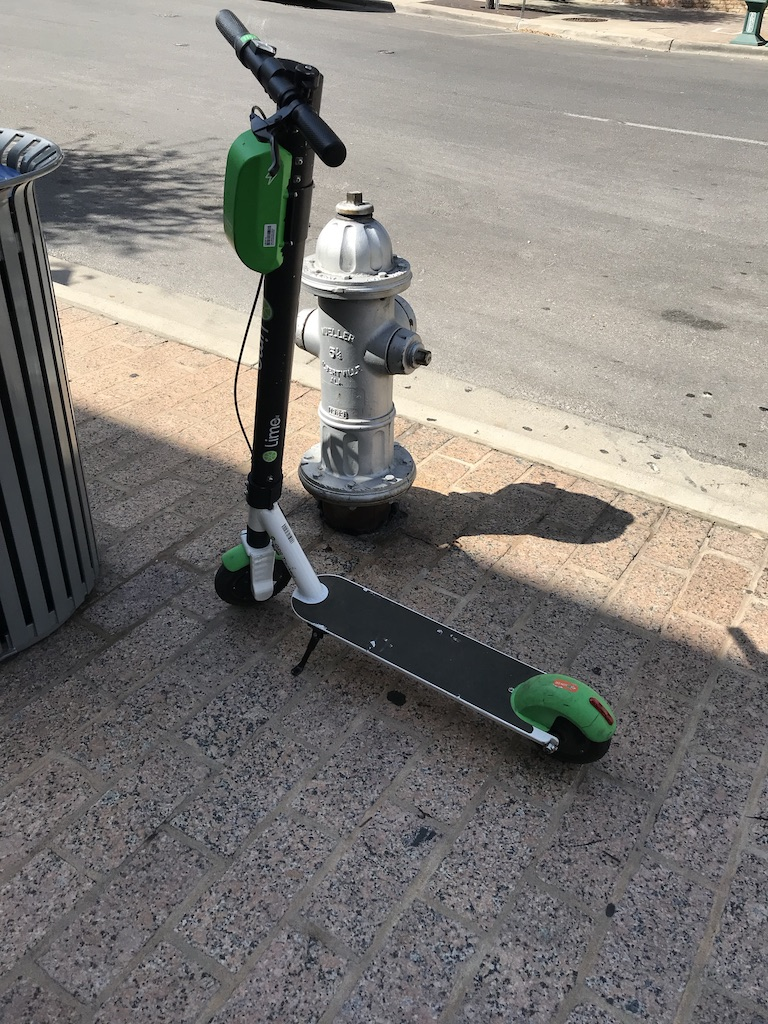scooter: (212, 6, 622, 771)
